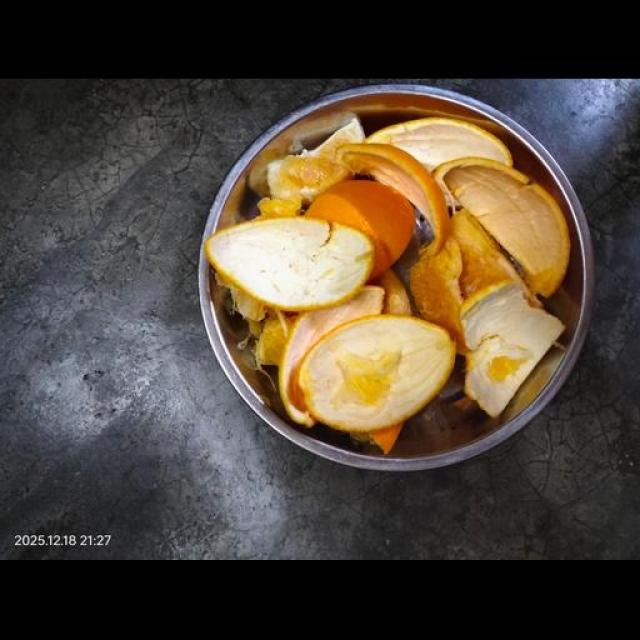organic: (196, 68, 611, 558)
